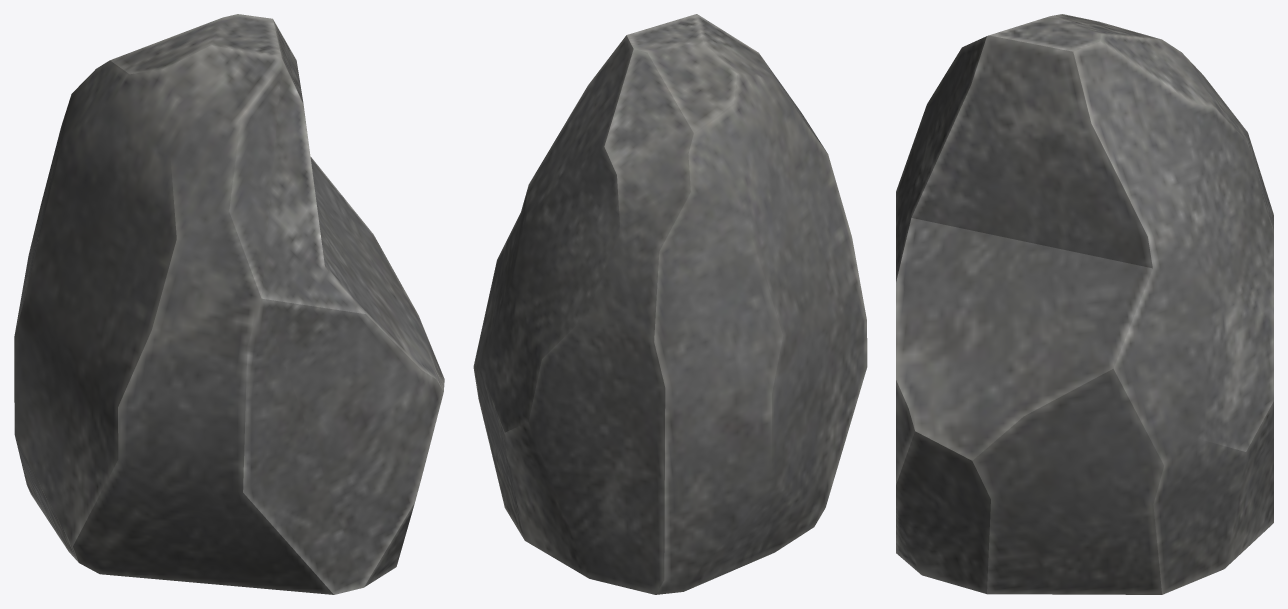
The model's file is Rock04_Dream.glb.
3 views of the same model, side by side, from view 1: azimuth 30°, elevation 25°; view 2: azimuth 150°, elevation 25°; view 3: azimuth 270°, elevation 25° (orthographic). The views are drawn at different scales.
Parts seen in each view (by area): view 1: rock04_dream; view 2: rock04_dream; view 3: rock04_dream.
Boxes of the visible parts, x1,y1,x2,y2 form: rock04_dream: (14, 14, 444, 594); rock04_dream: (473, 14, 867, 594); rock04_dream: (896, 14, 1273, 594).
Bounding box in the file's own units: 0.4228 × 0.6179 × 0.4228.
Materials: 1 (1 with a texture image).
